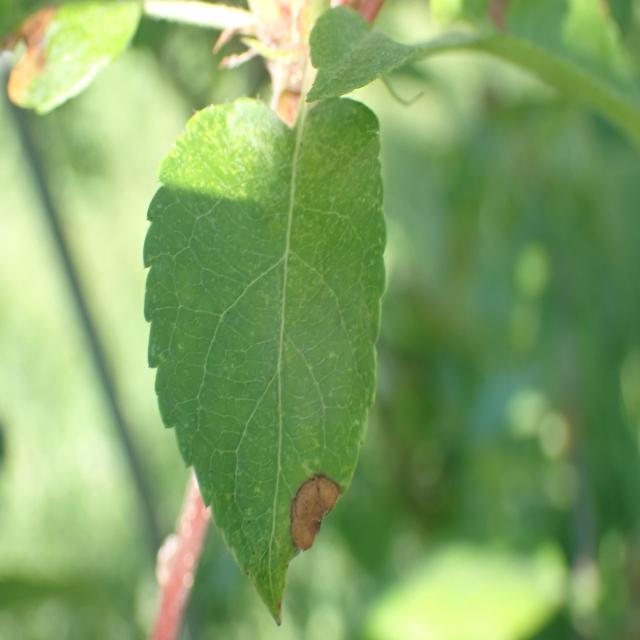frog-eye-leaf-spot: (141, 97, 388, 629)
